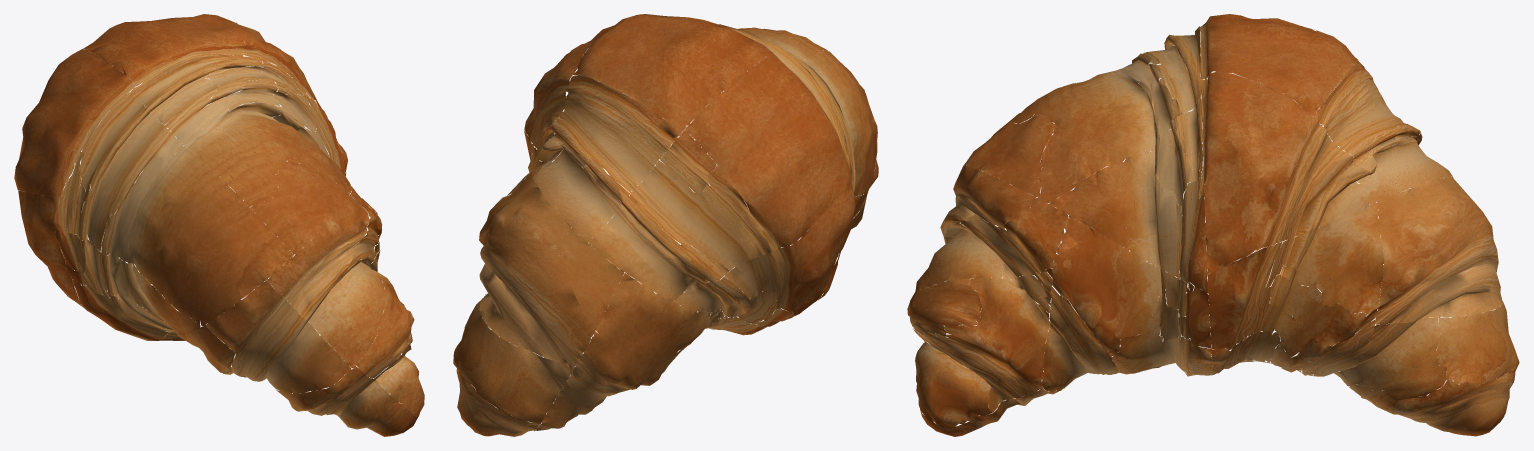
The model's file is croissant.glb.
3 views of the same model, side by side, from view 1: azimuth 30°, elevation 25°; view 2: azimuth 150°, elevation 25°; view 3: azimuth 270°, elevation 25° (orthographic). The views are drawn at different scales.
Visible parts, largest first — view 1: tripo_node_b324ca8e-4b84-46f6-b8ad-0716f25f584c; view 2: tripo_node_b324ca8e-4b84-46f6-b8ad-0716f25f584c; view 3: tripo_node_b324ca8e-4b84-46f6-b8ad-0716f25f584c.
Part boxes in pixels (x1=…): tripo_node_b324ca8e-4b84-46f6-b8ad-0716f25f584c: x1=14, y1=14, x2=424, y2=436; tripo_node_b324ca8e-4b84-46f6-b8ad-0716f25f584c: x1=453, y1=14, x2=878, y2=436; tripo_node_b324ca8e-4b84-46f6-b8ad-0716f25f584c: x1=907, y1=14, x2=1519, y2=436.
Size of the model in its own units: 0.6039 by 0.6327 by 0.9815.
1 material, 1 textured.
